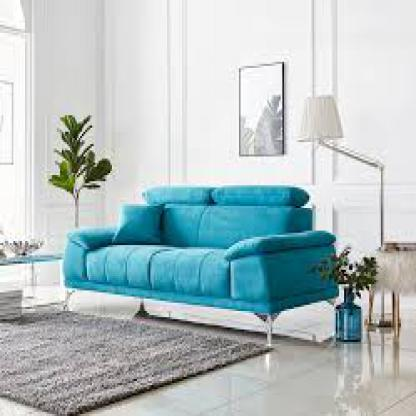sofa: (57, 188, 336, 350), (52, 187, 339, 307)
